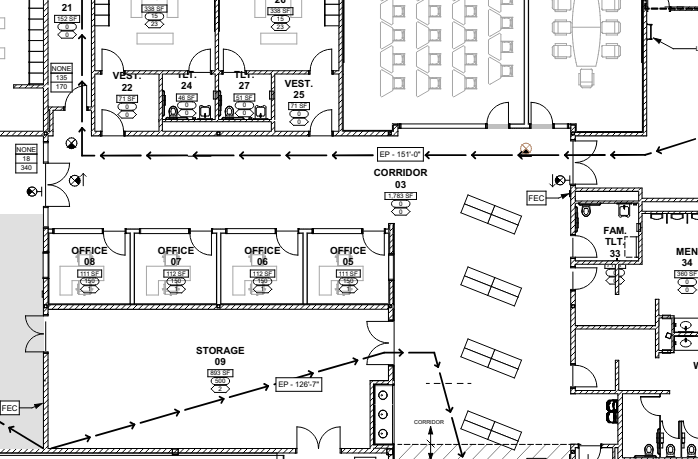door: (99, 223, 129, 262), (60, 78, 89, 118), (563, 362, 603, 390), (184, 226, 215, 259), (359, 224, 388, 259), (185, 45, 214, 80), (307, 47, 335, 82), (220, 45, 247, 81), (529, 99, 555, 135), (99, 106, 127, 139), (274, 225, 301, 258), (568, 234, 602, 260), (567, 265, 600, 291), (99, 45, 125, 78), (485, 99, 511, 128), (654, 415, 681, 442), (635, 393, 664, 418)
double door: (294, 418, 345, 459), (38, 160, 74, 211), (363, 319, 399, 369), (22, 312, 54, 355)
